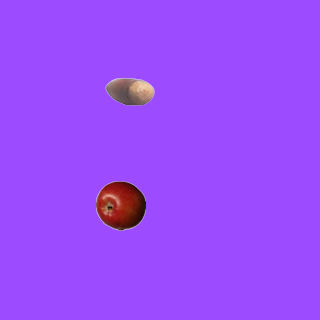Apple Braeburn: (95, 180, 145, 230)
Hazelnut: (104, 66, 154, 116)
